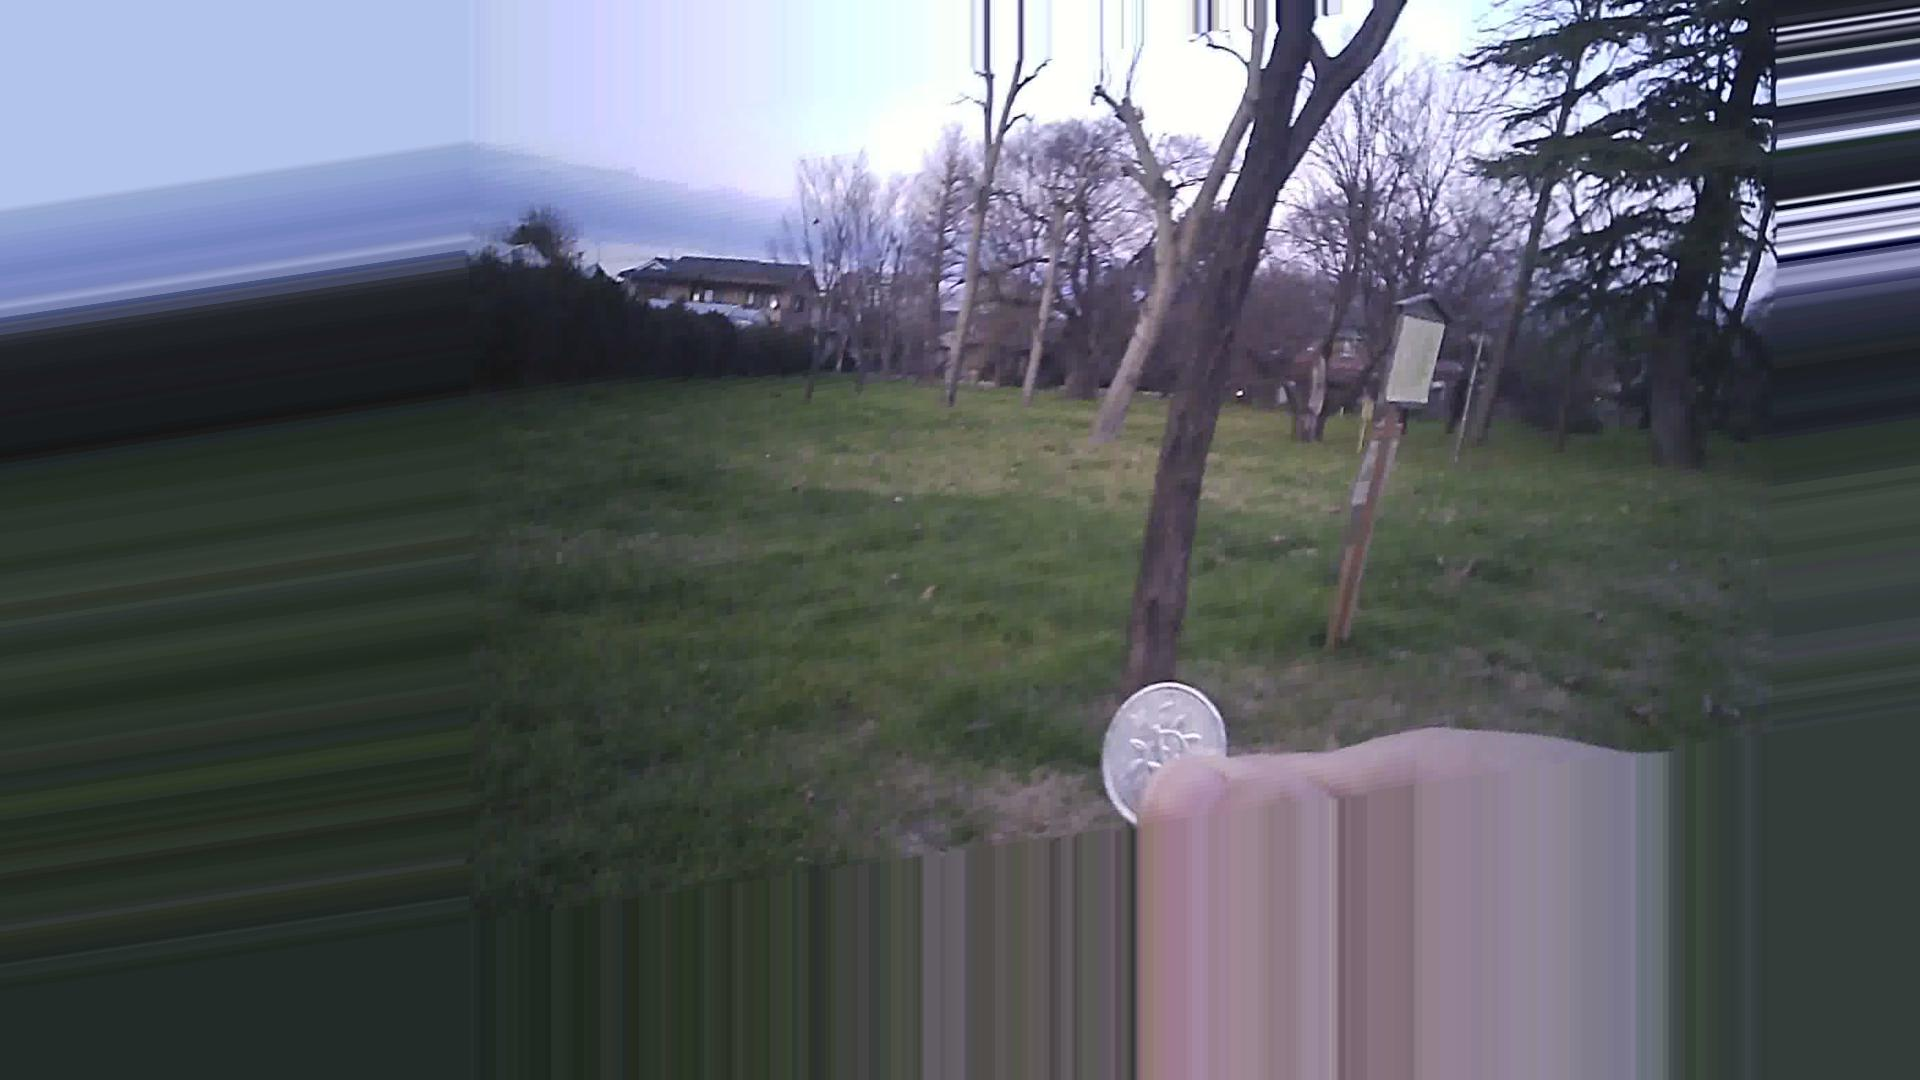1 Yen: (1093, 669, 1246, 833)
